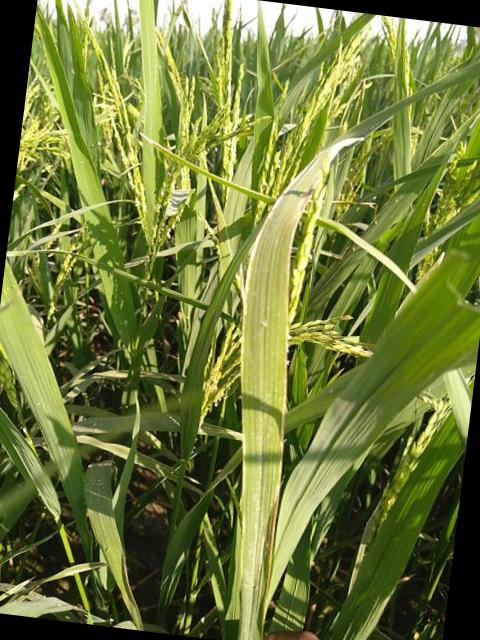Leaf Blight: (225, 137, 360, 628)
